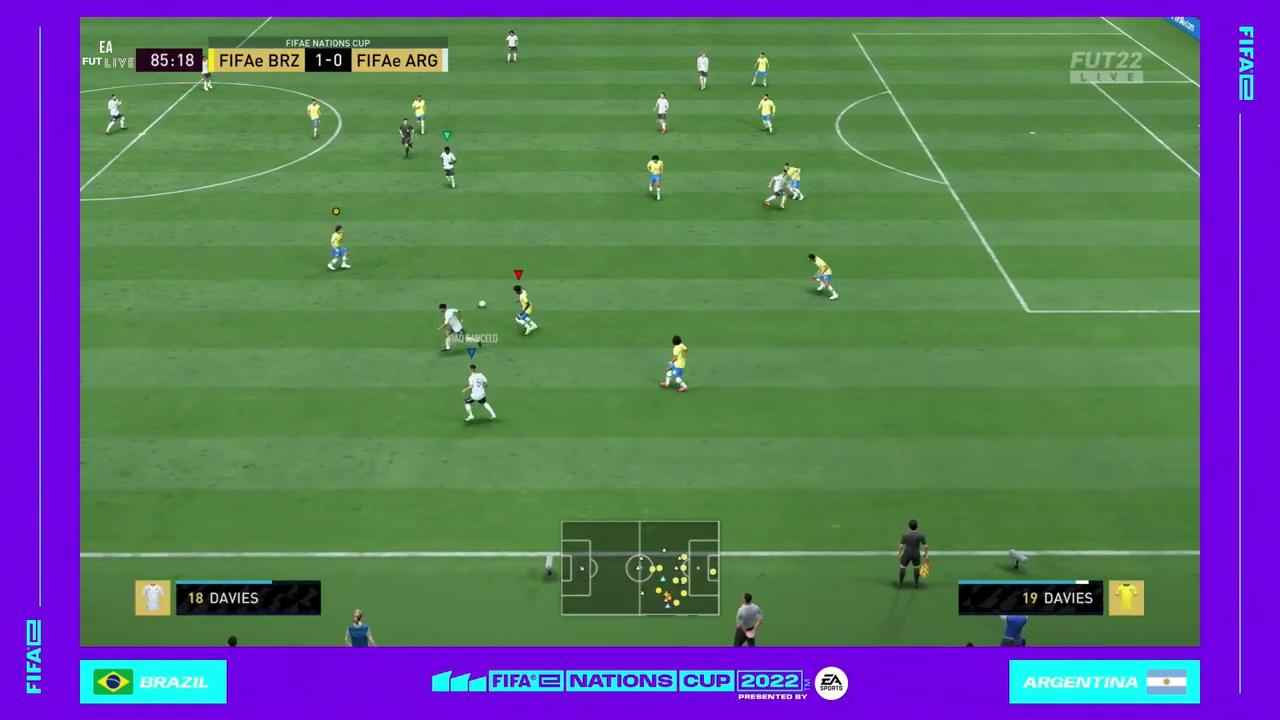scoreboard: (211, 47, 449, 71)
timestamp: (137, 46, 201, 73)
